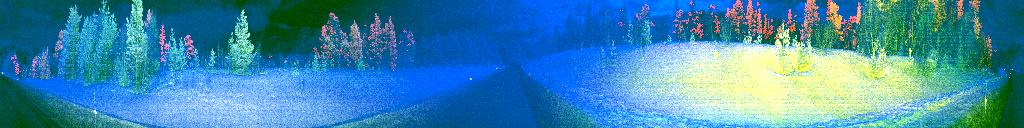pole: (90, 90, 100, 128), (982, 80, 990, 116)
